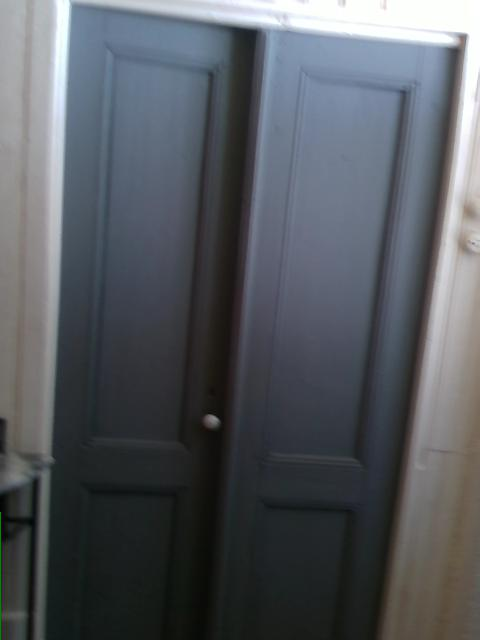door: (39, 1, 478, 639)
